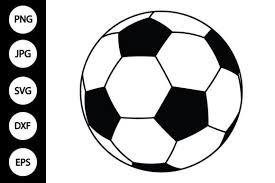football ball: (78, 8, 244, 173)
